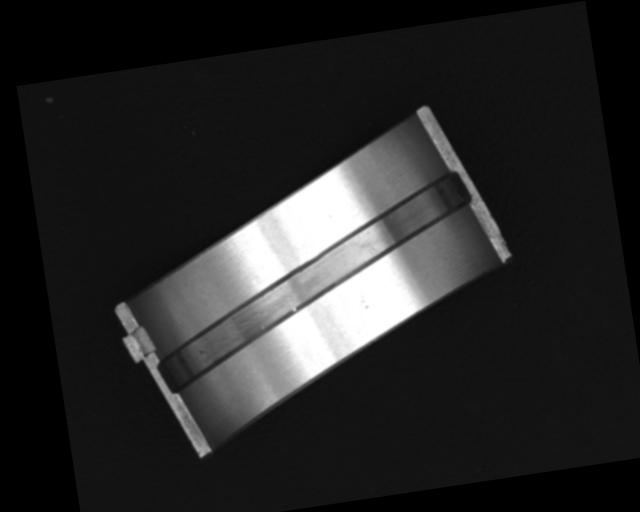gap: (135, 167, 493, 393)
